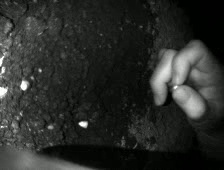corn: (18, 78, 32, 93), (77, 119, 90, 130), (170, 84, 180, 92)
